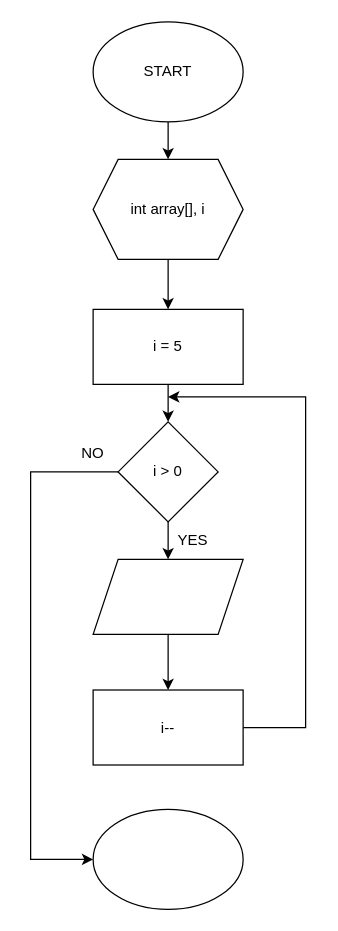
The diagram is 338 pixels wide and 931 high, and some of its shapes have lost their labels. Each missing label, with the centre of its shape:
"print array[i]" belongs at point 167,596.
"STOP" belongs at point 167,858.
